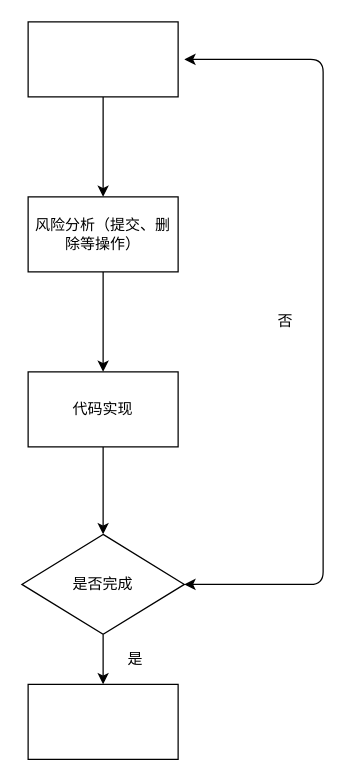
Image size: 356x781. Some labels were removed from this diagram. The centre of each missing label's shape, as x and y in pixels:
与产品经理对接需求: the point at 102,59
验收: the point at 102,721
